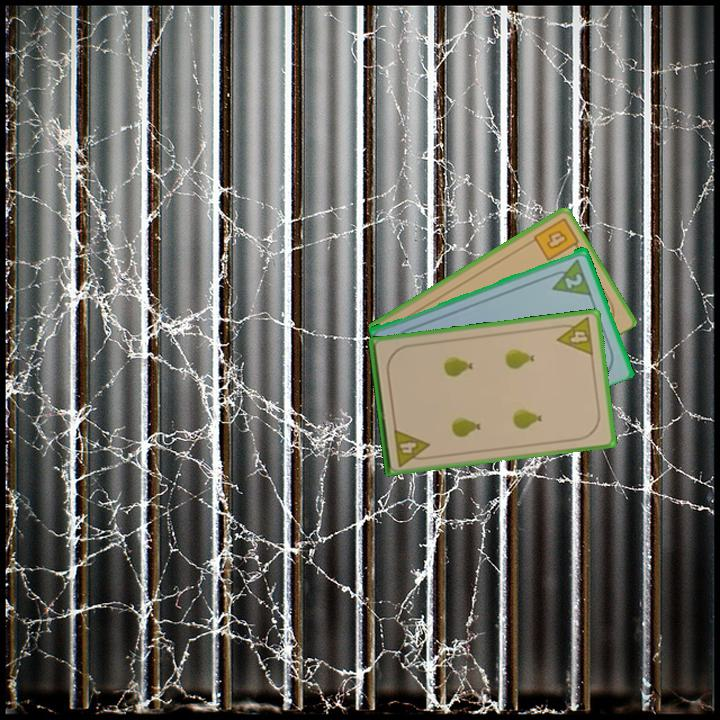2p: (561, 269, 585, 291)
4b: (530, 215, 584, 263)
4p: (552, 314, 597, 358), (390, 425, 433, 469)
